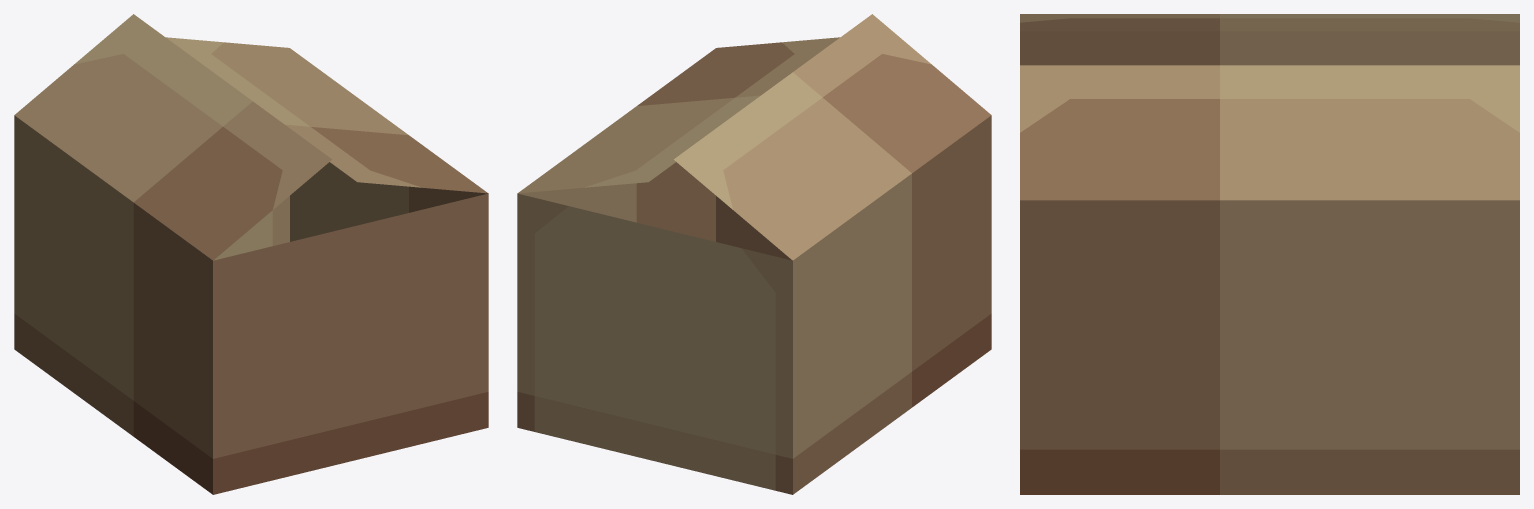
3 renders of one model, left to right at view 1: azimuth 30°, elevation 25°; view 2: azimuth 150°, elevation 25°; view 3: azimuth 270°, elevation 25°, orthographic. The views are drawn at different scales.
Parts seen in each view (by area): view 1: body, flap2, flap1; view 2: body, flap2, flap1; view 3: body, flap1, flap2.
Boxes of the visible parts, x1,y1,x2,y2 form: body: (14, 115, 488, 494); flap2: (14, 14, 331, 260); flap1: (166, 37, 487, 193); body: (517, 115, 991, 494); flap2: (674, 14, 991, 260); flap1: (518, 37, 839, 193); body: (1020, 31, 1519, 494); flap1: (1020, 65, 1519, 200); flap2: (1020, 14, 1519, 31).
Bounding box in the file's own units: 100 × 106 × 125.
1 material, 1 textured.
